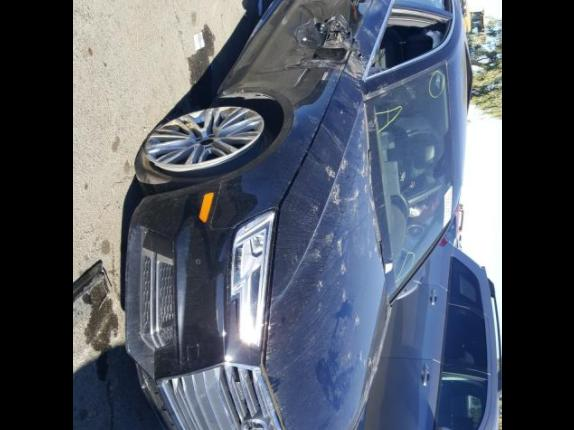Broken part: (132, 99, 277, 197), (313, 15, 369, 68)
Dent: (295, 0, 369, 48)
Missing part: (368, 6, 450, 74)
Scratch: (286, 57, 364, 84)
